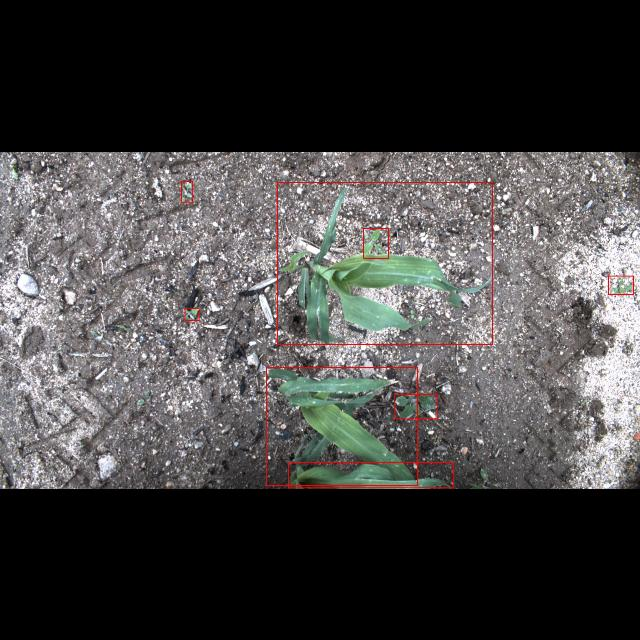crop: (278, 182, 492, 344), (266, 367, 418, 485), (288, 462, 454, 488)
weed: (395, 394, 437, 418), (364, 227, 388, 257), (608, 274, 634, 294), (181, 181, 193, 201), (185, 308, 199, 320)
